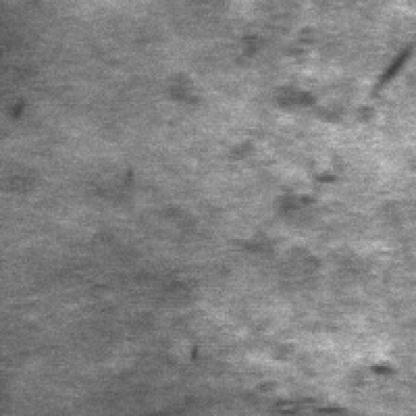rolled-in_scale: (260, 14, 374, 118), (241, 158, 343, 262), (254, 341, 399, 412)
